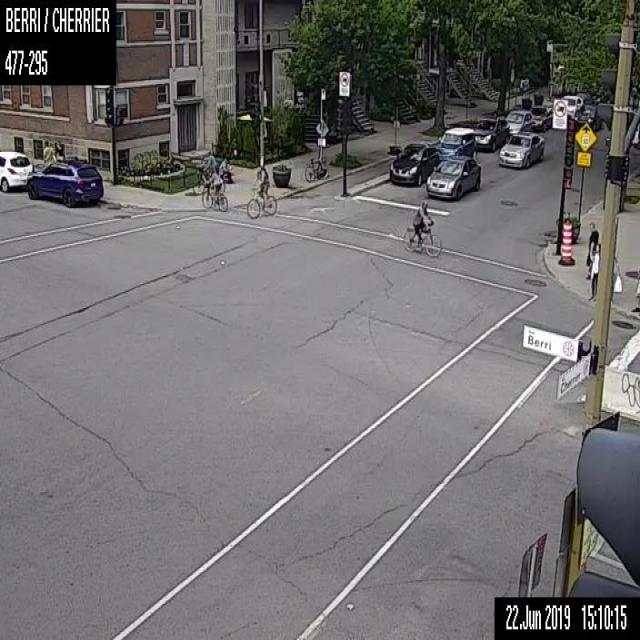construction: (558, 222, 574, 264)
cyclist: (403, 200, 441, 256), (246, 165, 277, 218), (193, 154, 222, 192), (202, 168, 227, 210)
pedestrian: (585, 220, 598, 279), (589, 243, 599, 300), (218, 157, 234, 183), (42, 139, 54, 162), (54, 139, 64, 159)
vehicle: (25, 156, 103, 206), (425, 156, 481, 198), (387, 143, 438, 185), (498, 130, 544, 166), (436, 126, 477, 162), (0, 149, 32, 192), (475, 115, 509, 152), (574, 104, 604, 130), (504, 110, 534, 134), (530, 105, 553, 130), (562, 95, 582, 119)
